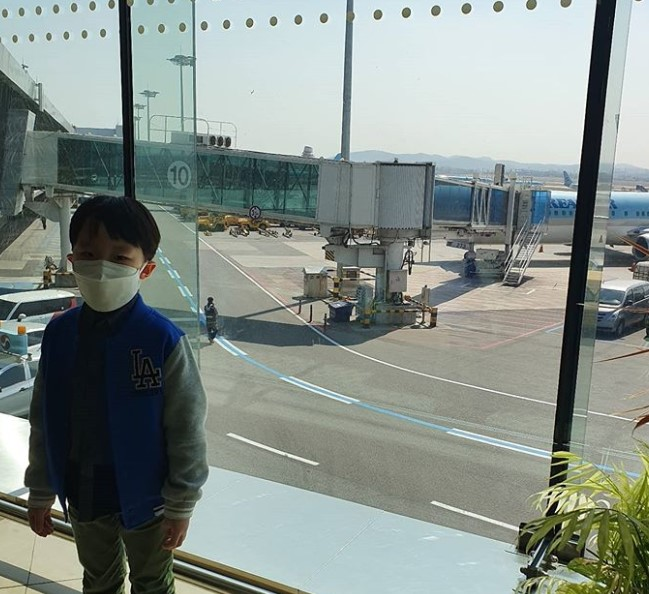face_with_mask: (71, 197, 156, 310)
